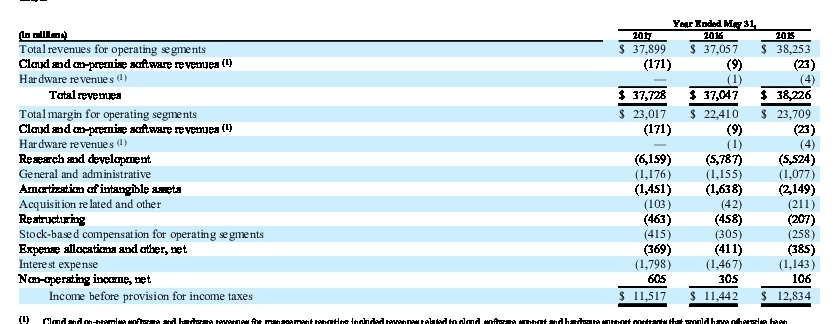table: (0, 0, 836, 324)
